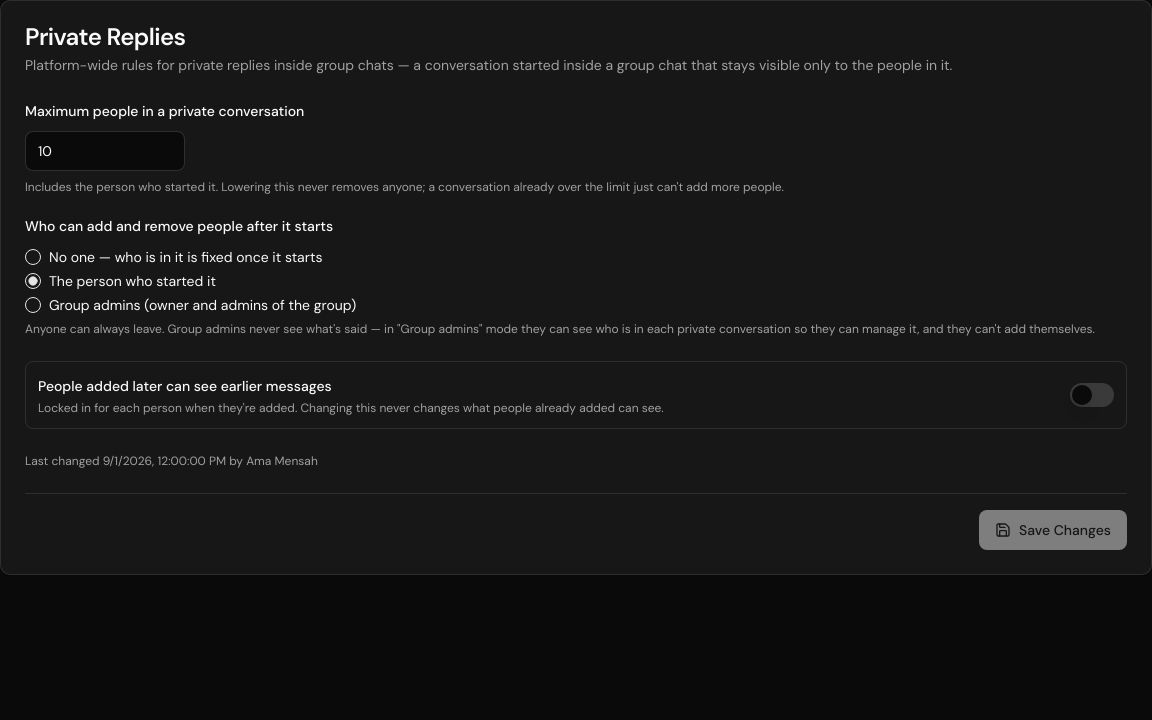
PrivateReplySettingsCard › shows an inline error and keeps Save disabled for an out-of-range value
Replace the text in the number field labelled "Maximum people in a private conversation" with "1": x=105, y=151 [25, 131, 185, 171]
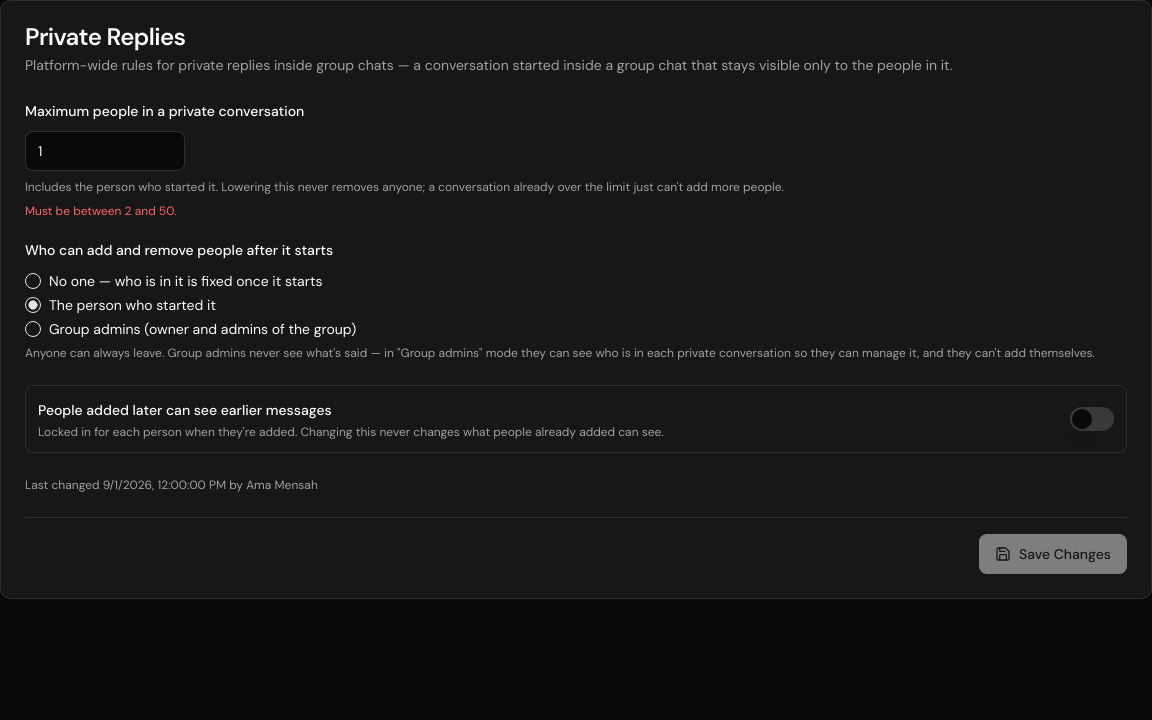
Expected: the button "Save Changes" is disabled, [979, 534, 1127, 574]
Expected: the message shows "between 2 and 50", [25, 203, 176, 219]
